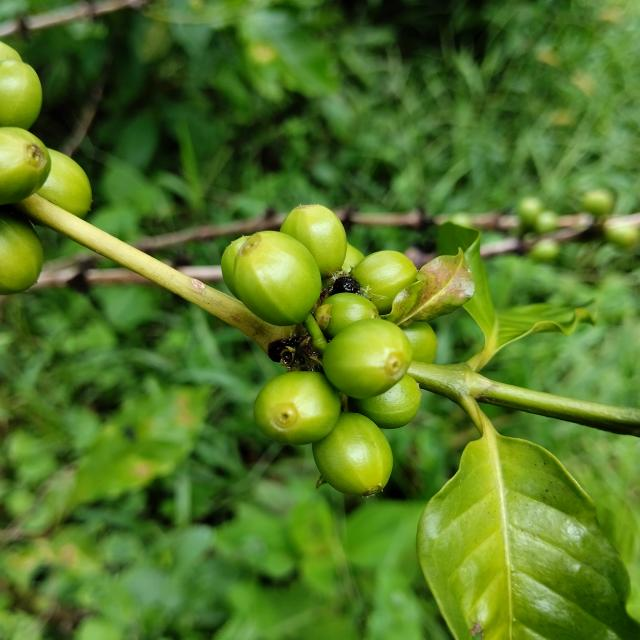green: (233, 231, 321, 326), (322, 318, 413, 399), (312, 413, 393, 497), (254, 372, 341, 446), (280, 204, 347, 278), (350, 250, 418, 315), (349, 375, 422, 429), (0, 126, 50, 204), (36, 148, 91, 218), (0, 208, 42, 294), (314, 292, 379, 338), (0, 58, 41, 129), (221, 236, 251, 299), (402, 322, 438, 363)
